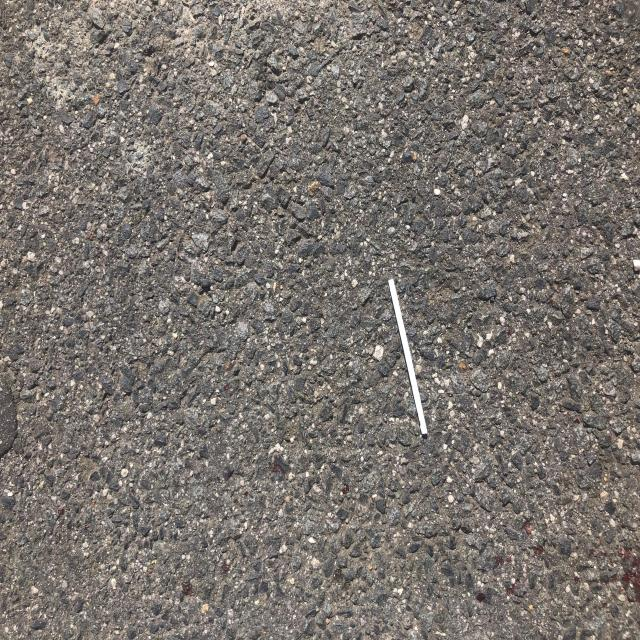litter: (383, 276, 430, 439)
